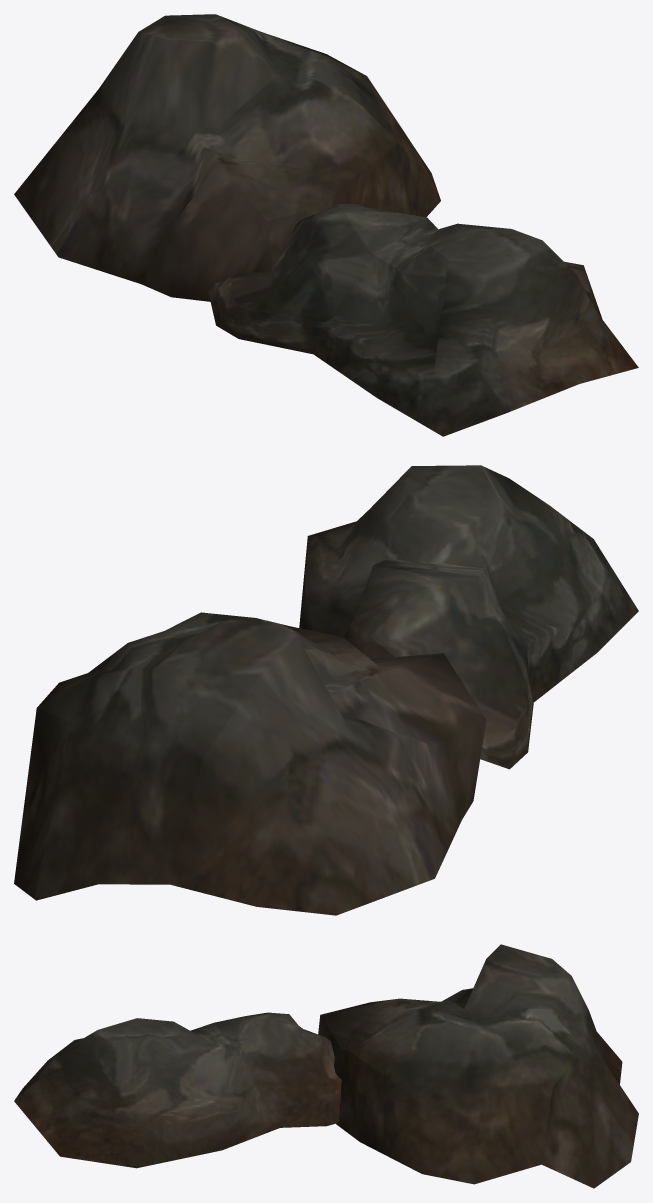
Rendered from fxmg_shitou5.FBX.
3 renders of one model, top to bottom at view 1: azimuth 30°, elevation 25°; view 2: azimuth 150°, elevation 25°; view 3: azimuth 270°, elevation 25°, orthographic. The views are drawn at different scales.
Visible parts, largest first — view 1: KLMSM_shitou5; view 2: KLMSM_shitou5; view 3: KLMSM_shitou5.
Part boxes in pixels (box(x1,y1,x2,y2)): KLMSM_shitou5: box(14, 14, 638, 436); KLMSM_shitou5: box(14, 465, 638, 915); KLMSM_shitou5: box(14, 944, 638, 1188).
Bounding box in the file's own units: 88.2 × 50.58 × 166.
